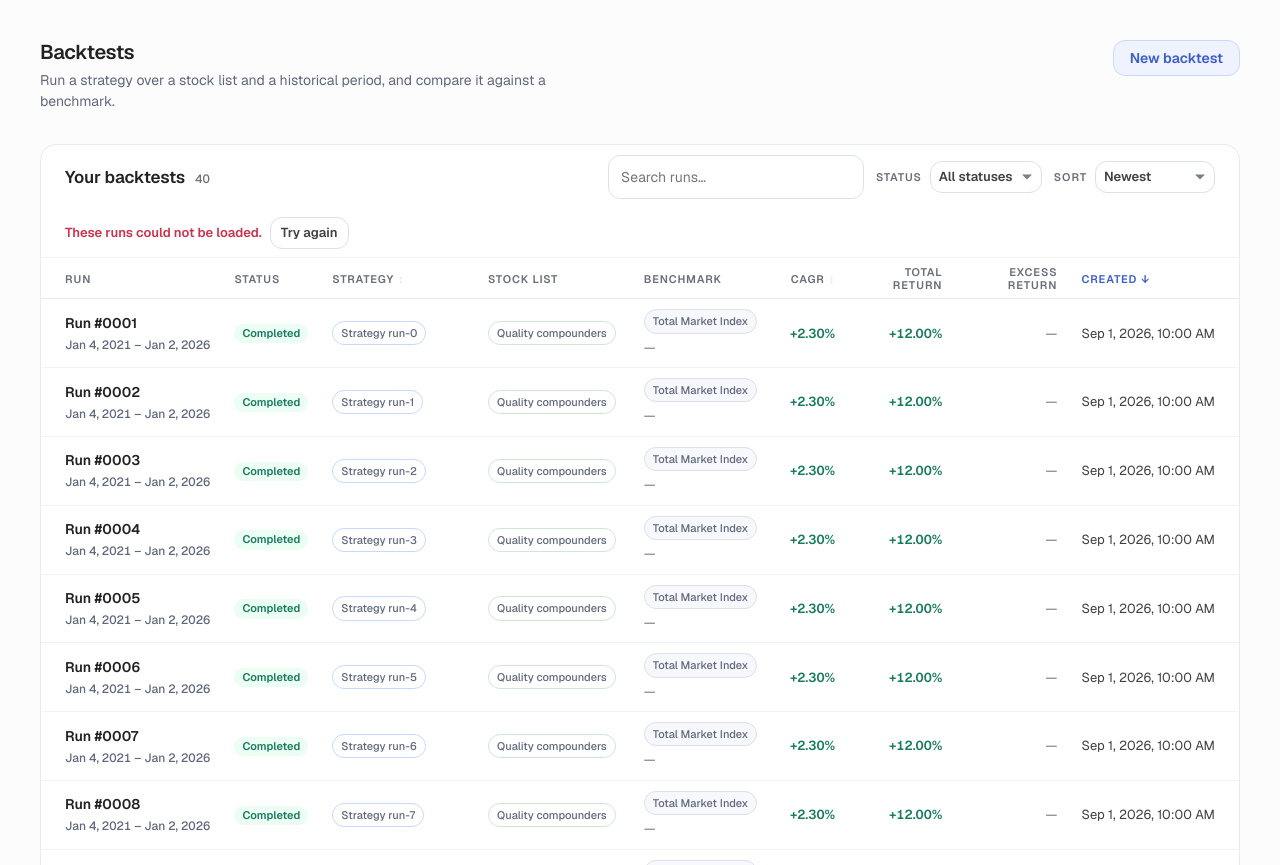
BacktestsPage › keeps the rows when a later read fails, says so, and reads again on request
The width and height of the screenshot is (1280, 865).
Expected: the text "Run #0001" is shown, [65, 314, 137, 332]
Click the button "Try again".
click(309, 233)  # box [270, 217, 349, 249]
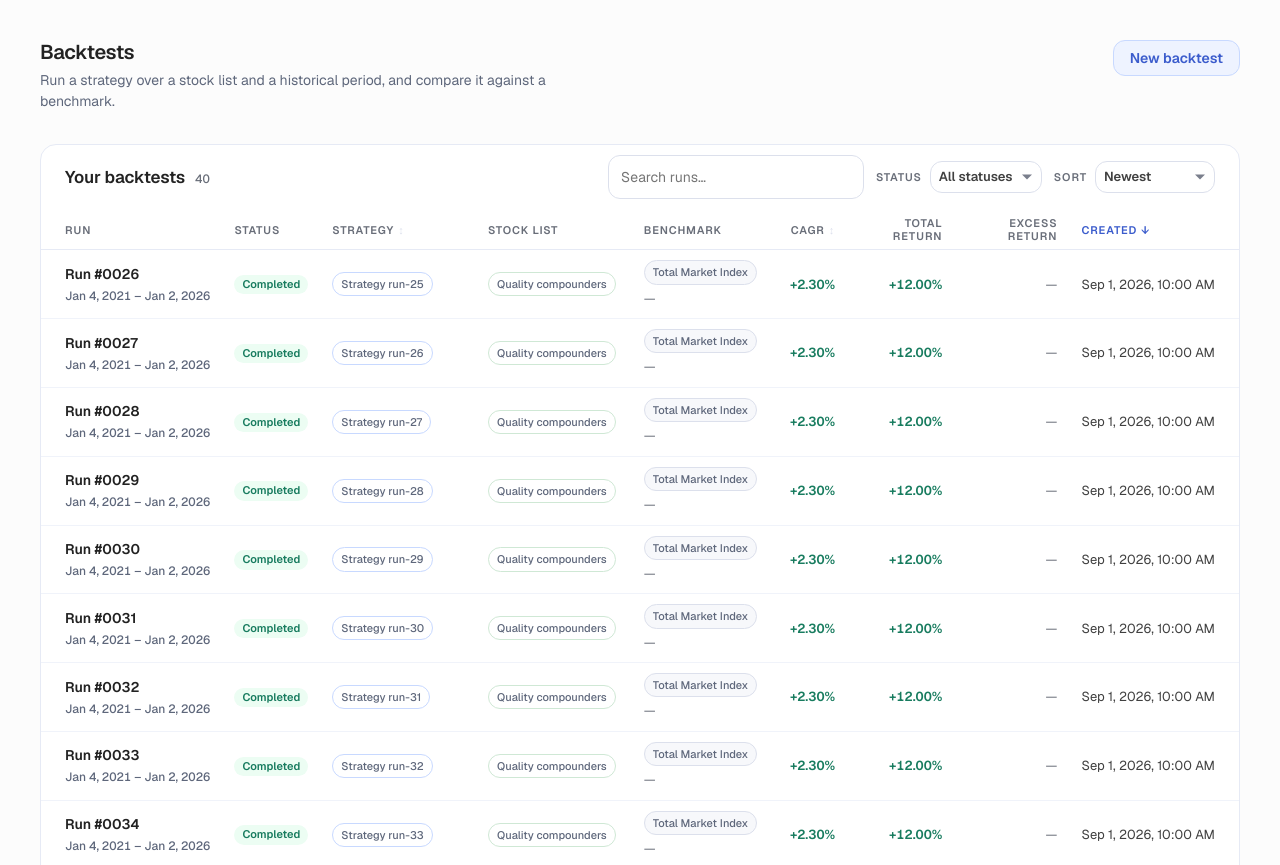
Expected: the text "Run #0026" is shown, [65, 265, 139, 283]
Expected: the message with test id "backtests-read-failed" is gone
